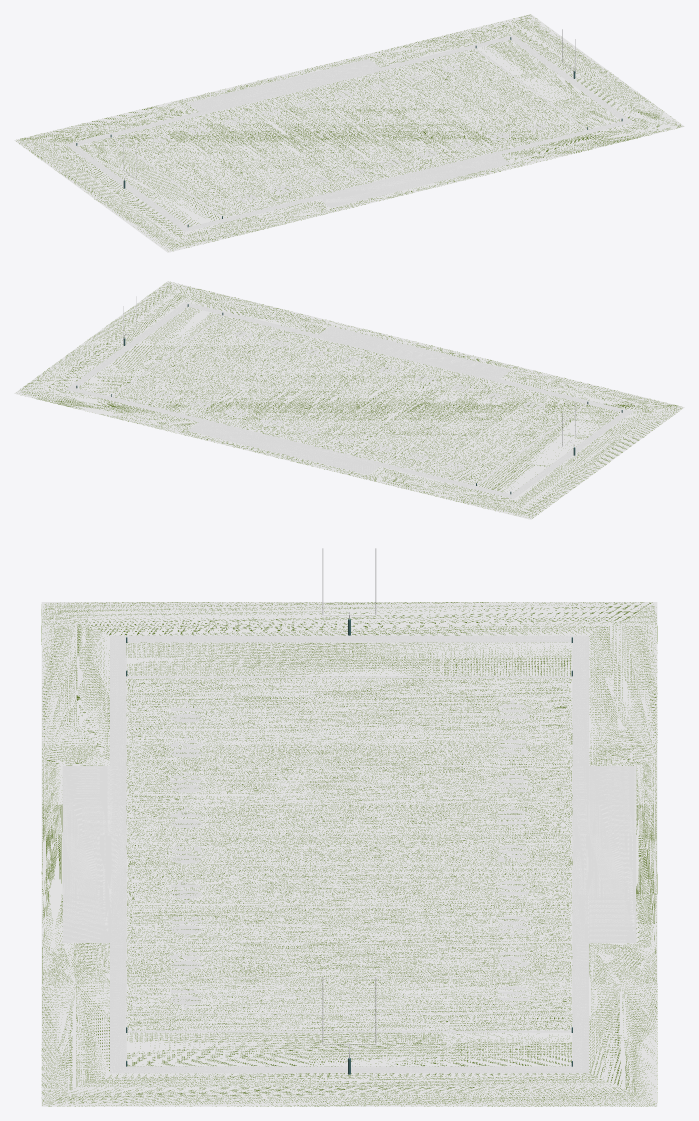
The model's file is OPT_FootballField.fbx.
The picture shows the model from 3 angles, top to bottom: view 1: azimuth 30°, elevation 25°; view 2: azimuth 150°, elevation 25°; view 3: azimuth 270°, elevation 25°; orthographic projection. The views are drawn at different scales.
Visible parts, largest first — view 1: SketchUp.009; view 2: SketchUp.009; view 3: SketchUp.009.
Boxes of the visible parts, x1=… form: SketchUp.009: x1=14, y1=14, x2=684, y2=252; SketchUp.009: x1=14, y1=281, x2=684, y2=519; SketchUp.009: x1=41, y1=548, x2=657, y2=1106.
Bounding box in the file's own units: 17257 × 1462 × 8892.
